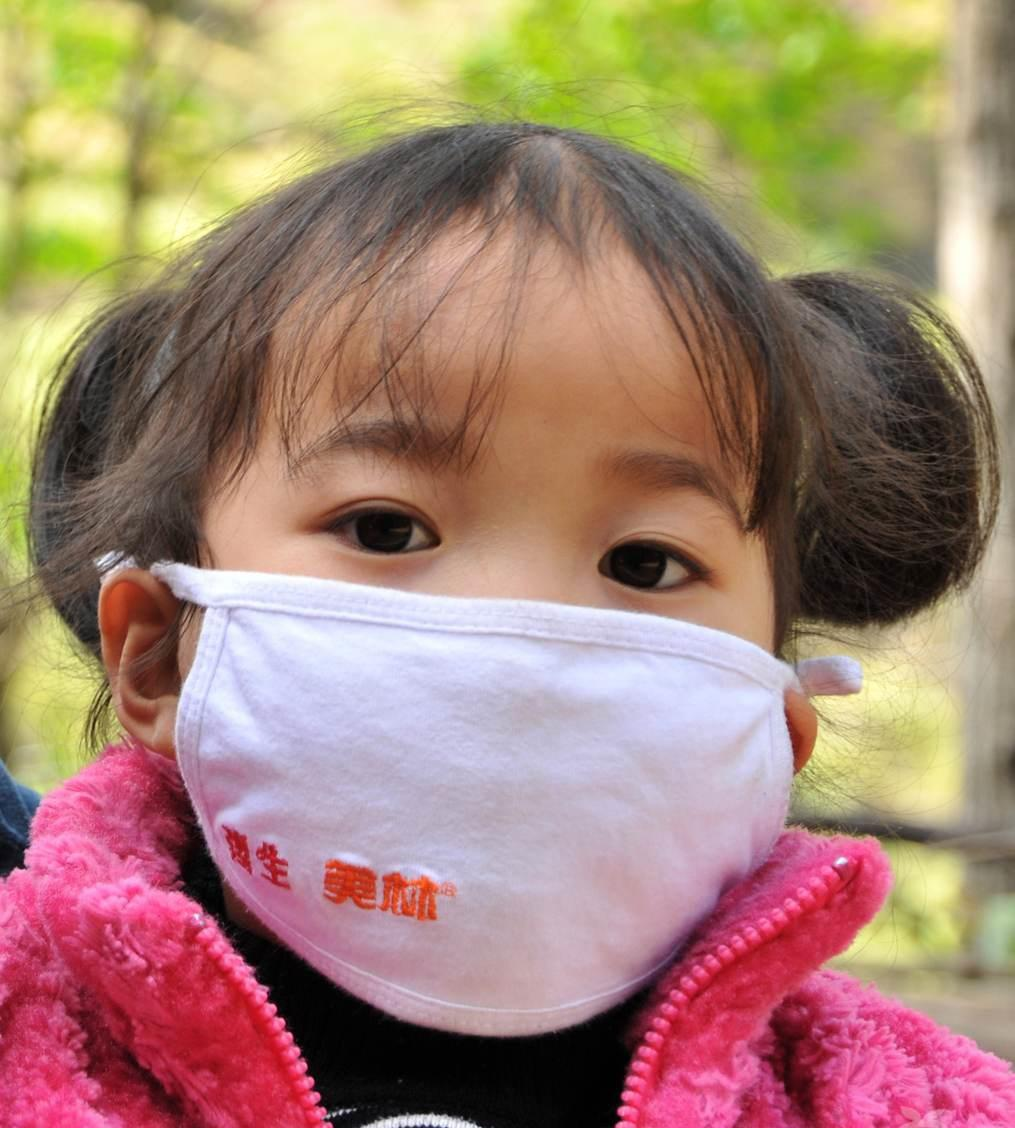OK: (178, 388, 821, 1031)
